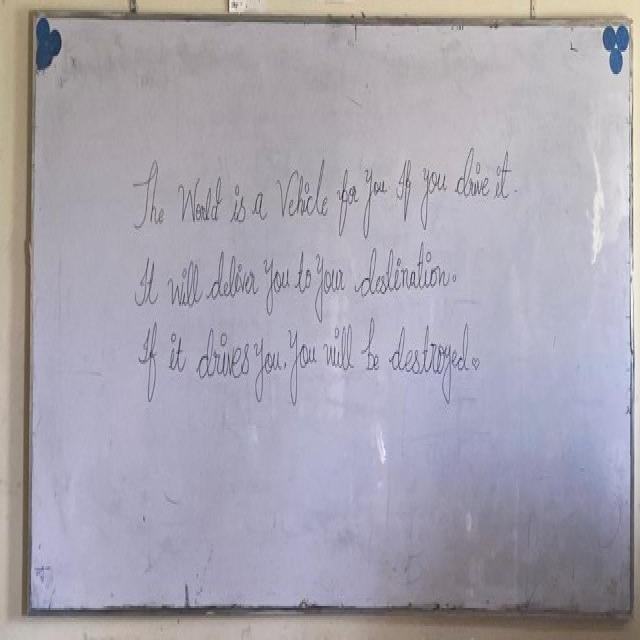White-board: (24, 18, 632, 616)
